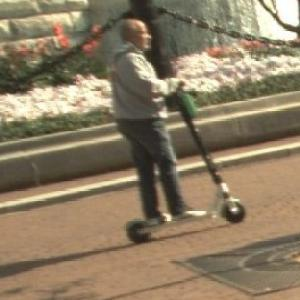with scooter: (112, 20, 246, 244)
